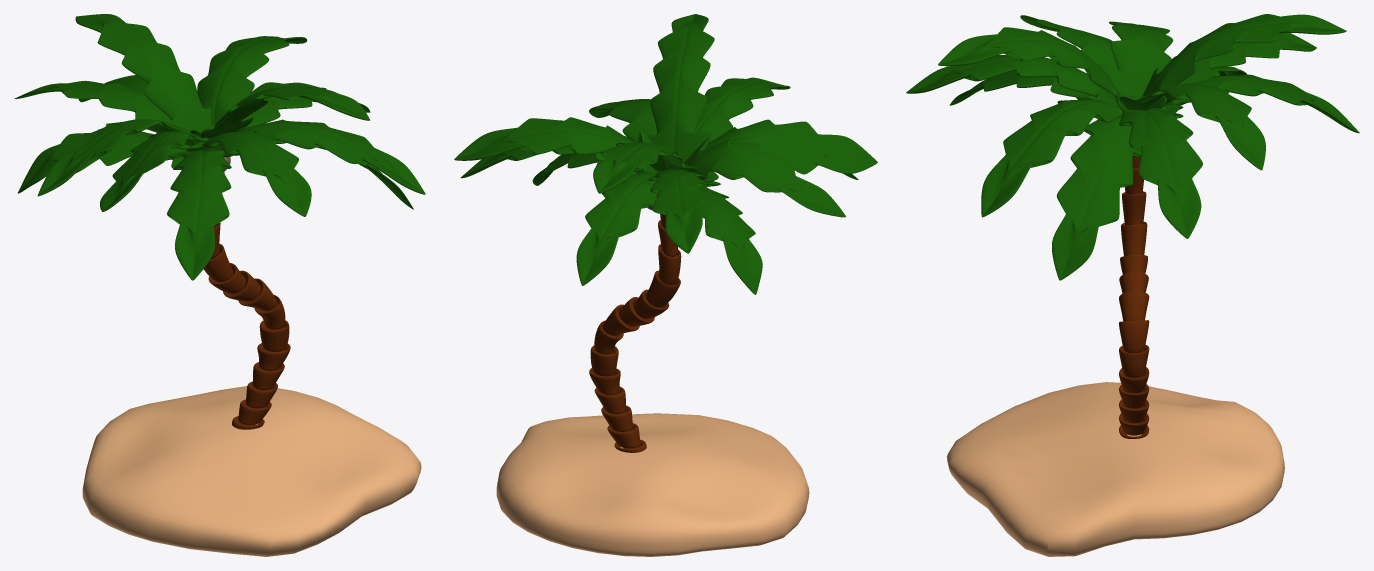
The model's file is palm_tree_high.glb.
3 views of the same model, side by side, from view 1: azimuth 30°, elevation 25°; view 2: azimuth 150°, elevation 25°; view 3: azimuth 270°, elevation 25° (orthographic). The views are drawn at different scales.
Visible parts, largest first — view 1: Cube.001, Cube, Cube.013, Cube.021, Cube.023, Cube.012, Cube.019, Cube.015, Cube.014, Cube.020, Cube.017, Cube.016 (+1 smaller); view 2: Cube.001, Cube, Cube.014, Cube.015, Cube.020, Cube.012, Cube.018, Cube.016, Cube.017, Cube.019, Cube.013, Cube.023 (+2 smaller); view 3: Cube.001, Cube.022, Cube, Cube.008, Cube.023, Cube.013, Cube.014, Cube.012, Cube.019, Cube.015, Cube.018, Cube.017 (+2 smaller).
Boxes of the visible parts, <box> form: Cube.001: <box>82,386,421,556</box>; Cube: <box>203,222,290,429</box>; Cube.013: <box>75,14,210,132</box>; Cube.021: <box>167,149,239,280</box>; Cube.023: <box>215,119,425,194</box>; Cube.012: <box>197,36,307,125</box>; Cube.019: <box>186,131,311,216</box>; Cube.015: <box>37,119,204,196</box>; Cube.014: <box>200,86,370,138</box>; Cube.020: <box>100,131,221,211</box>; Cube.017: <box>14,80,190,149</box>; Cube.016: <box>17,129,186,193</box>; Cube.001: <box>496,413,809,556</box>; Cube: <box>589,214,681,452</box>; Cube.014: <box>638,14,714,163</box>; Cube.015: <box>683,137,845,217</box>; Cube.020: <box>704,119,877,174</box>; Cube.012: <box>454,117,657,172</box>; Cube.018: <box>576,169,657,285</box>; Cube.016: <box>697,181,762,294</box>; Cube.017: <box>648,169,708,253</box>; Cube.019: <box>695,77,790,142</box>; Cube.013: <box>593,142,697,193</box>; Cube.023: <box>589,99,656,142</box>; Cube.001: <box>946,382,1284,556</box>; Cube.022: <box>1052,116,1141,280</box>; Cube: <box>1119,155,1149,438</box>; Cube.008: <box>1119,106,1202,238</box>; Cube.023: <box>981,97,1122,217</box>; Cube.013: <box>1142,14,1346,110</box>; Cube.014: <box>938,27,1127,112</box>; Cube.012: <box>1119,83,1265,170</box>; Cube.019: <box>906,55,1119,107</box>; Cube.015: <box>1099,21,1173,96</box>; Cube.018: <box>1163,74,1359,133</box>; Cube.017: <box>1163,32,1316,105</box>.
Size of the model in its own units: 5.02 by 5.84 by 5.21.
